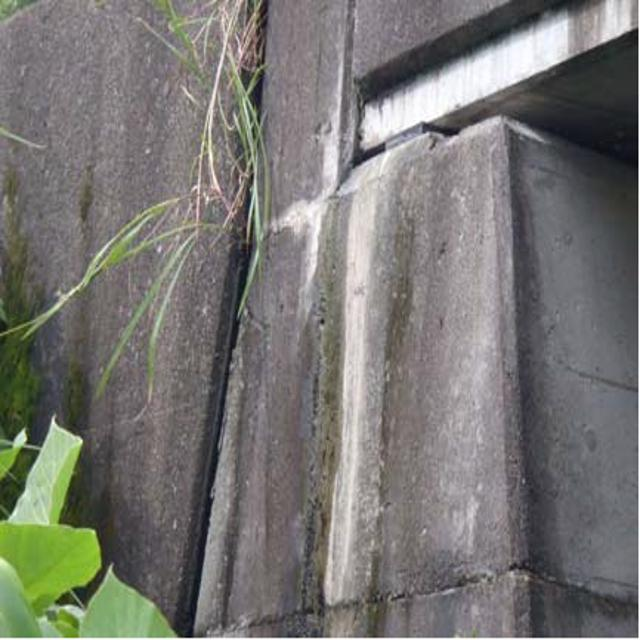freelime: (297, 157, 412, 600)
